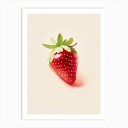strawberry: (44, 36, 81, 85)
